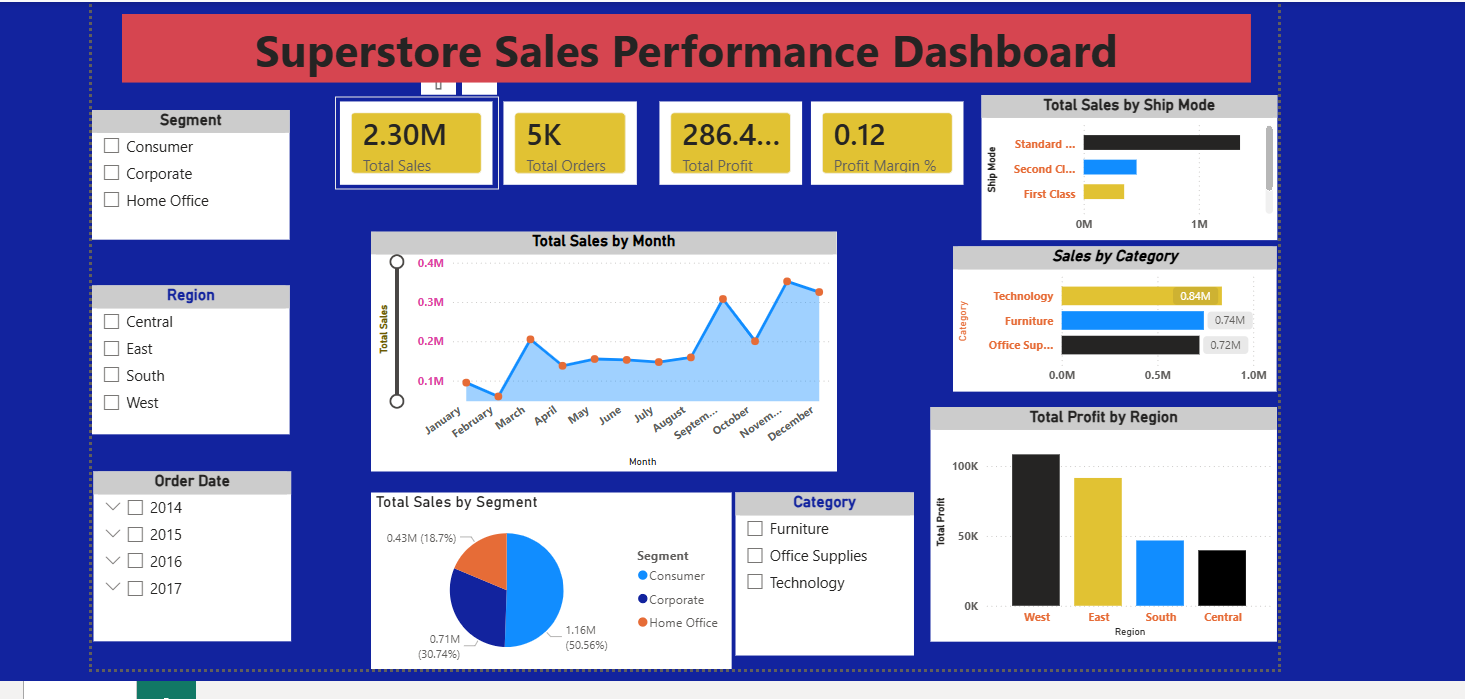

The page's visual inventory and layout, read from the dashboard file:
{"tool":"powerbi","page":{"name":"Page 1","canvas":[1280,720],"ordinal":0},"visuals":[{"type":"cardVisual","title":"Total Sales","fields":{"Data":["Sample - Superstore.Total Sales"]},"box":[262.7,102,175.7,100.2],"z":0},{"type":"cardVisual","fields":{"Data":["Sample - Superstore.Total Orders"]},"box":[438.4,102,155,100.2],"z":1000},{"type":"cardVisual","fields":{"Data":["Sample - Superstore.Total Profit"]},"box":[606.6,102,164.4,100.2],"z":2000},{"type":"cardVisual","fields":{"Data":["Sample - Superstore.Profit Margin %"]},"box":[771,102,175.7,100.2],"z":3000},{"type":"clusteredBarChart","title":"Sales by Category","fields":{"Category":["Sample - Superstore.Category"],"Y":["Sample - Superstore.Total Sales"]},"box":[929.8,264.6,349.6,156.9],"z":4000},{"type":"clusteredColumnChart","fields":{"Category":["Sample - Superstore.Region"],"Y":["Sample - Superstore.Total Profit"]},"box":[905.2,436.5,374.2,253.2],"z":5000},{"type":"slicer","title":"Category","fields":{"Values":["Sample - Superstore.Category"]},"box":[695.4,529.1,192.8,175.7],"z":6000},{"type":"clusteredBarChart","fields":{"Category":["Sample - Superstore.Ship Mode"],"Y":["Sample - Superstore.Total Sales"]},"box":[960,100.2,319.4,156.9],"z":7000},{"type":"slicer","title":"Region","fields":{"Values":["Sample - Superstore.Region"]},"box":[0,306.1,213.5,160.6],"z":8000},{"type":"slicer","title":"Segment","fields":{"Values":["Sample - Superstore.Segment"]},"box":[0,117.2,213.5,139.8],"z":9000},{"type":"slicer","title":"Order Date","fields":{"Values":["Sample - Superstore.Order Date.Variation.Date Hierarchy.Year","Sample - Superstore.Order Date.Variation.Date Hierarchy.Quarter","Sample - Superstore.Order Date.Variation.Date Hierarchy.Month","Sample - Superstore.Order Date.Variation.Date Hierarchy.Day"]},"box":[1.9,506.5,213.5,183.3],"z":10000},{"type":"lineChart","fields":{"Y":["Sample - Superstore.Total Sales"],"Category":["Sample - Superstore.Order Date.Variation.Date Hierarchy.Month"]},"box":[300.5,247.6,502.7,258.9],"z":11000},{"type":"pieChart","fields":{"Category":["Sample - Superstore.Segment"],"Y":["Sample - Superstore.Total Sales"]},"box":[300.5,529.1,389.3,190.9],"z":12000},{"type":"textbox","box":[32.1,13.2,1218.9,73.7],"z":12001}]}

Visuals, with their boxes in screenshot pixels (x1, y1, x2, y2):
"Total Sales" cardVisual: [left=330, top=94, right=492, bottom=187]
cardVisual - Sample - Superstore.Total Orders: [left=492, top=94, right=635, bottom=187]
cardVisual - Sample - Superstore.Total Profit: [left=647, top=94, right=799, bottom=187]
cardVisual - Sample - Superstore.Profit Margin %: [left=799, top=94, right=961, bottom=187]
"Sales by Category" clusteredBarChart: [left=945, top=244, right=1268, bottom=389]
clusteredColumnChart - Sample - Superstore.Region x Sample - Superstore.Total Profit: [left=923, top=403, right=1268, bottom=636]
"Category" slicer: [left=729, top=488, right=907, bottom=650]
clusteredBarChart - Sample - Superstore.Ship Mode x Sample - Superstore.Total Sales: [left=973, top=92, right=1268, bottom=237]
"Region" slicer: [left=88, top=282, right=285, bottom=430]
"Segment" slicer: [left=88, top=108, right=285, bottom=237]
"Order Date" slicer: [left=90, top=467, right=286, bottom=636]
lineChart - Sample - Superstore.Total Sales x Sample - Superstore.Order Date.Variation.Date Hierarchy.Month: [left=365, top=228, right=829, bottom=467]
pieChart - Sample - Superstore.Segment x Sample - Superstore.Total Sales: [left=365, top=488, right=724, bottom=664]
textbox: [left=117, top=12, right=1242, bottom=80]
